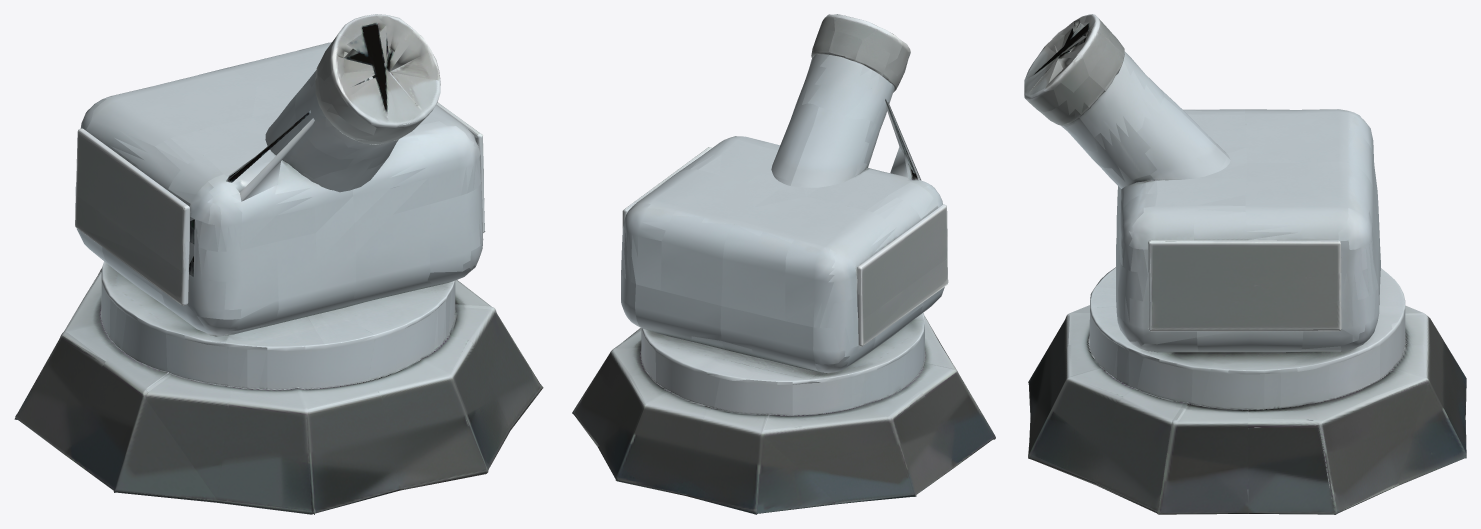
File: pycharm.glb
The picture shows the model from 3 angles, left to right: view 1: azimuth 30°, elevation 25°; view 2: azimuth 150°, elevation 25°; view 3: azimuth 270°, elevation 25°; orthographic projection. The views are drawn at different scales.
Size of the model in its own units: 1 by 1 by 1.
Materials: 1 (1 with a texture image).
